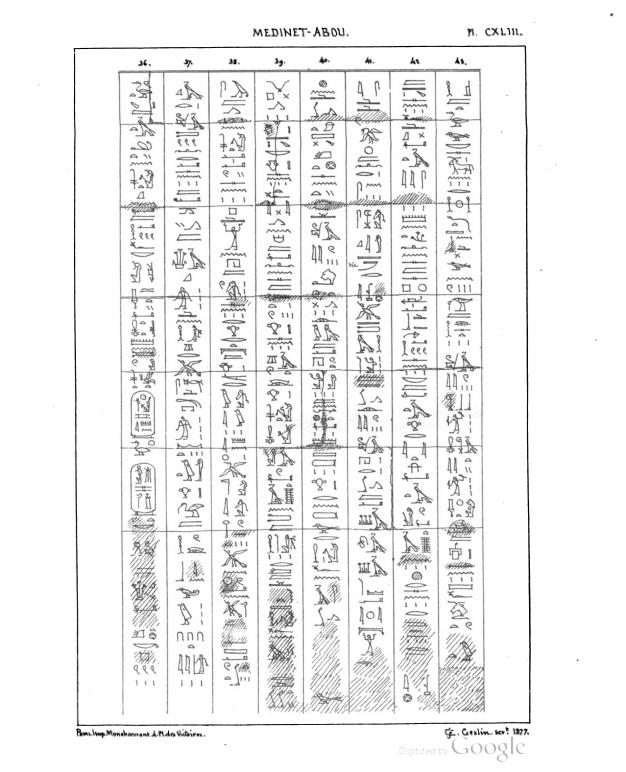circle: (126, 459, 163, 519), (126, 390, 159, 440)
